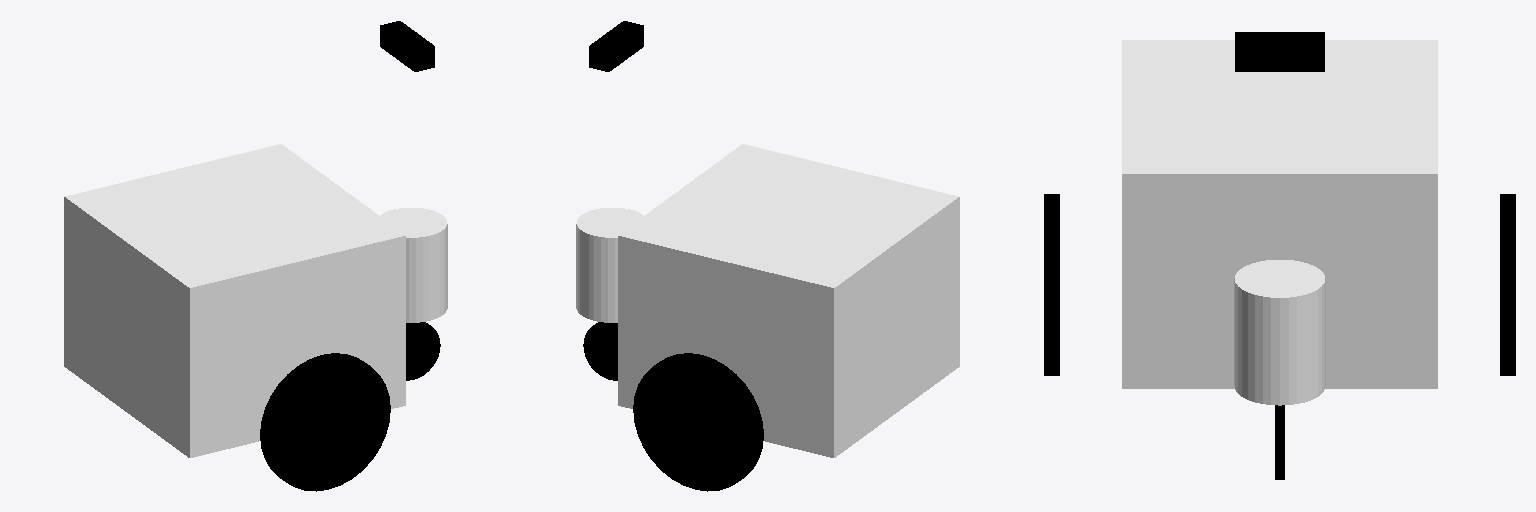
URDF robot description (orange_on_wheels):
<robot name="orange_on_wheels">

	<link name="base_link">
		<visual>
			<geometry>
				<box size="0.16 0.16 0.12"/>
			</geometry>
			<origin rpy="0 0 0" xyz="0 0 0.085"/>
			<material name="white">
				<color rgba="1 1 1 1"/>
			</material>
		</visual>
	</link>

	<link name="lwheel">
		<visual>
			<geometry>
				<cylinder length="0.008" radius="0.046"/>
			</geometry>
			<origin rpy="0 0 0" xyz="0 0 0"/>
			<material name="black">
				<color rgba="0 0 0 1"/>
			</material>
		</visual>
	</link>

	<joint name="base_to_lwheel" type="fixed">
		<parent link="base_link"/>
		<child link="lwheel"/>
		<origin xyz="0 0.115 0.046" rpy="1.5708 0 0"/>
	</joint>

	<link name="rwheel">
		<visual>
			<geometry>
				<cylinder length="0.008" radius="0.046"/>
			</geometry>
			<origin rpy="0 0 0" xyz="0 0 0"/>
			<material name="black">
				<color rgba="0 0 0 1"/>
			</material>
		</visual>
	</link>

	<joint name="base_to_rwheel" type="fixed">
		<parent link="base_link"/>
		<child link="rwheel"/>
		<origin xyz="0 -0.115 0.046" rpy="-1.5708 0 0"/>
	</joint>

	<link name="fwheel_attach">
		<visual>
			<geometry>
				<cylinder length="0.060" radius="0.023"/>
			</geometry>
			<origin rpy="0 0 0" xyz="0.13 0 0.08"/>
			<material name="white">
				<color rgba="1 1 1 1"/>
			</material>
		</visual>
	</link>

	<joint name="base_to_fattach" type="fixed">
		<parent link="base_link"/>
		<child link="fwheel_attach"/>
		<origin xyz="0 0 0" rpy="0 0 0"/>
	</joint>

	<link name="fwheel">
		<visual>
			<geometry>
				<cylinder length="0.005" radius="0.020"/>
			</geometry>
			<origin rpy="1.578 0 0" xyz="0 0 0"/>
			<material name="black">
				<color rgba="0 0 0 1"/>
			</material>
		</visual>
	</link>

	<joint name="base_to_fwheel" type="fixed">
		<parent link="base_link"/>
		<child link="fwheel"/>
		<origin xyz="0.13 0 0.02" rpy="0 0 0"/>
	</joint>

	<link name="scanner">
		<visual>
			<geometry>
				<box size="0.015 0.045 0.015"/>
			</geometry>
			<origin rpy="0 0 0" xyz="0.022 0 0.015"/>
			<material name="black">
				<color rgba="0 0 0 1"/>
			</material>
		</visual>
	</link>

	<joint name="base_to_scanner" type="fixed">
		<parent link="base_link"/>
		<child link="scanner"/>
		<origin xyz="0.105 0 0.22" rpy="0 0 0"/>
	</joint>

</robot>

--- Facts derived from the render (not from the file) ---
Views: 3 orthographic renders of the robot side by side, from view 1: azimuth 30°, elevation 25°; view 2: azimuth 150°, elevation 25°; view 3: azimuth 270°, elevation 25°.
Robot: orange_on_wheels — 6 links, 5 joints (5 fixed); root link base_link; default pose: every joint at zero.
Links seen in each view (by area): view 1: base_link, rwheel, fwheel_attach, scanner, fwheel; view 2: base_link, lwheel, fwheel_attach, scanner, fwheel; view 3: base_link, fwheel_attach, scanner, lwheel, rwheel, fwheel.
Boxes of the visible links, x1,y1,x2,y2 form: base_link: [64, 144, 405, 457]; rwheel: [260, 353, 390, 491]; fwheel_attach: [380, 208, 447, 322]; scanner: [380, 21, 434, 71]; fwheel: [406, 322, 440, 380]; base_link: [618, 144, 959, 457]; lwheel: [633, 353, 763, 491]; fwheel_attach: [576, 208, 643, 322]; scanner: [589, 21, 643, 71]; fwheel: [583, 322, 617, 380]; base_link: [1122, 40, 1437, 388]; fwheel_attach: [1234, 260, 1325, 405]; scanner: [1235, 32, 1324, 71]; lwheel: [1500, 194, 1515, 375]; rwheel: [1044, 194, 1059, 375]; fwheel: [1275, 405, 1284, 479].
Bounding box of the posed robot: 0.233 × 0.238 × 0.2425 m (x, y, z).
Geometry: primitives only (box / cylinder / sphere), no mesh files.